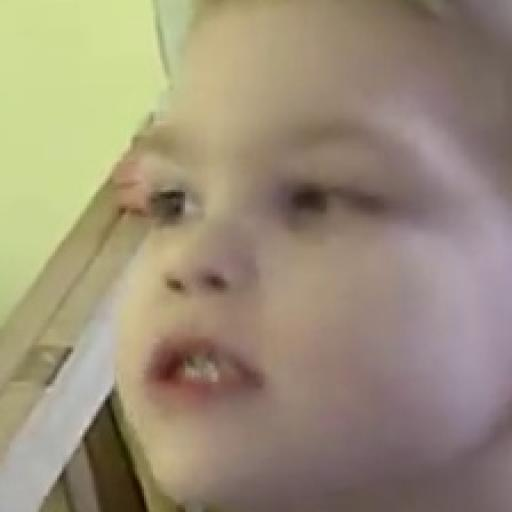Autism: (97, 18, 512, 489)
